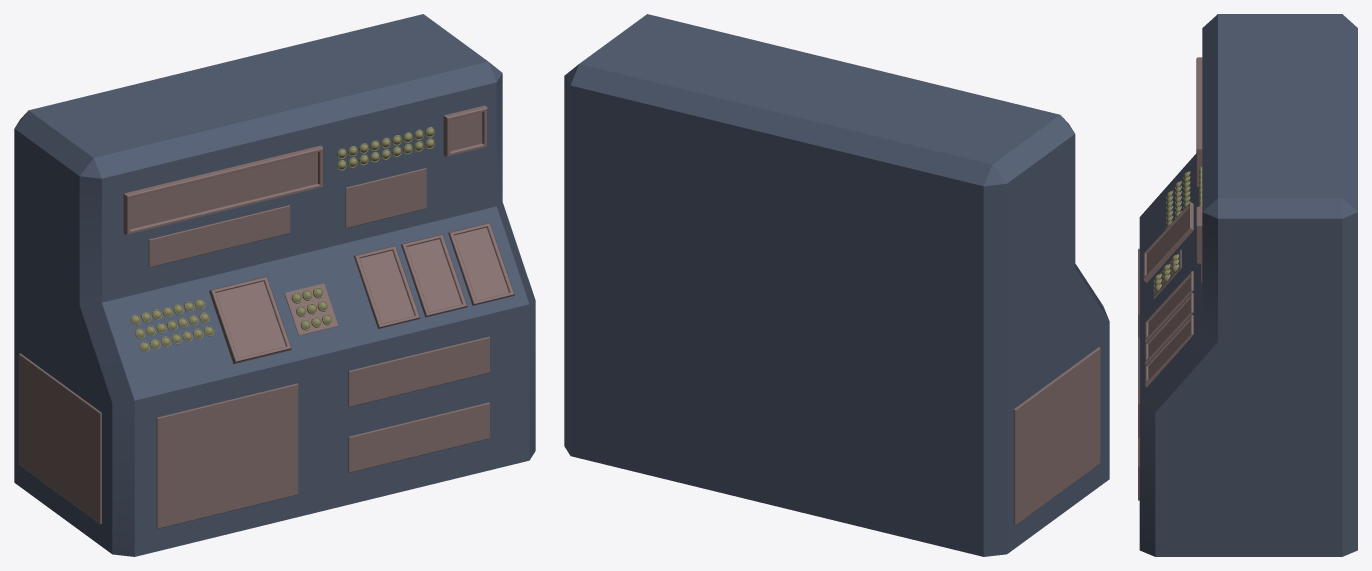
File: Mesh_WorldProp_ControlPanel_A.fbx
The picture shows the model from 3 angles, left to right: view 1: azimuth 30°, elevation 25°; view 2: azimuth 150°, elevation 25°; view 3: azimuth 270°, elevation 25°; orthographic projection. The views are drawn at different scales.
Visible parts, largest first — view 1: Body, Panel_1, Panel_2, Screen_5, Panel_5, Panel_3, Screen_4, Panel_7, Screen_1, Screen_2, Screen_3, Panel_6 (+5 smaller); view 2: Body, Panel_2; view 3: Body, Screen_4, Screen_1, Screen_2, Screen_3, Screen_5, Buttons_3, Screen_6, Buttons_2, Panel_4.
Boxes of the visible parts, left/top/right/bottom form: Body: left=14, top=14, right=535, bottom=556; Panel_1: left=156, top=383, right=298, bottom=528; Panel_2: left=19, top=353, right=101, bottom=524; Screen_5: left=123, top=145, right=323, bottom=234; Panel_5: left=348, top=402, right=489, bottom=472; Panel_3: left=348, top=336, right=489, bottom=406; Screen_4: left=209, top=276, right=291, bottom=364; Panel_7: left=148, top=205, right=290, bottom=267; Screen_1: left=448, top=222, right=514, bottom=305; Screen_2: left=401, top=234, right=467, bottom=317; Screen_3: left=354, top=245, right=420, bottom=328; Panel_6: left=345, top=168, right=426, bottom=228; Body: left=564, top=14, right=1109, bottom=556; Panel_2: left=1013, top=347, right=1100, bottom=525; Body: left=1139, top=14, right=1357, bottom=556; Screen_4: left=1143, top=202, right=1193, bottom=282; Screen_1: left=1145, top=315, right=1193, bottom=387; Screen_2: left=1145, top=293, right=1193, bottom=364; Screen_3: left=1145, top=271, right=1193, bottom=342; Screen_5: left=1196, top=57, right=1202, bottom=186; Buttons_3: left=1166, top=171, right=1190, bottom=227; Screen_6: left=1196, top=206, right=1202, bottom=263; Buttons_2: left=1154, top=254, right=1178, bottom=292; Panel_4: left=1153, top=249, right=1181, bottom=298.
Bounding box in the file's own units: 301 × 250 × 141.
